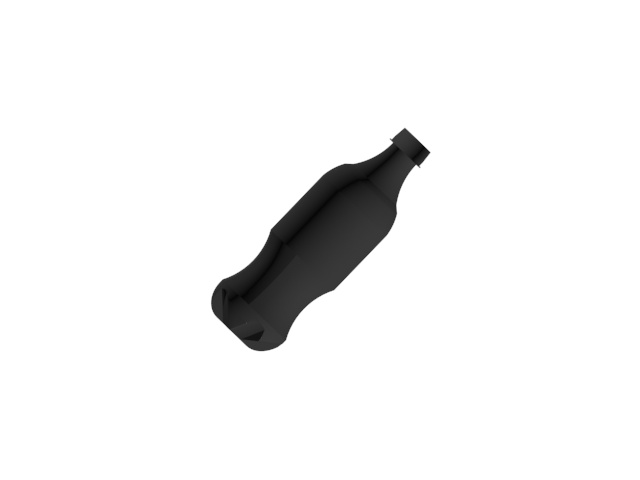bottle: (209, 121, 432, 352)
